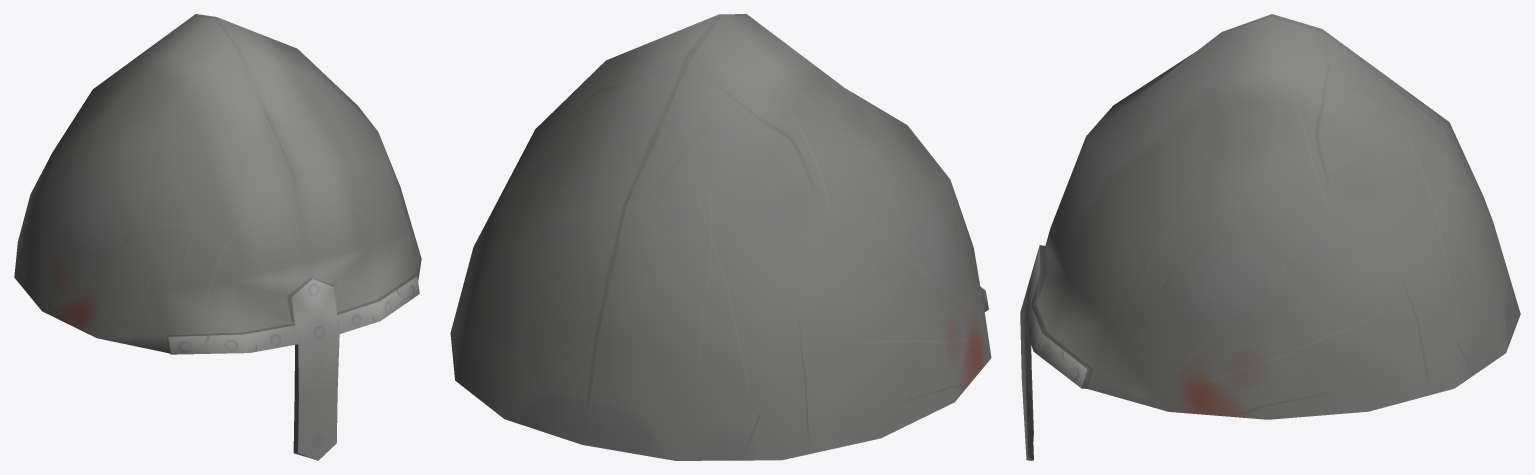
The model's file is Acess_CapaceteMedieval.fbx.
The picture shows the model from 3 angles, left to right: view 1: azimuth 30°, elevation 25°; view 2: azimuth 150°, elevation 25°; view 3: azimuth 270°, elevation 25°; orthographic projection. The views are drawn at different scales.
Parts seen in each view (by area): view 1: Cube.003; view 2: Cube.003; view 3: Cube.003.
Part boxes in pixels (x1,y1,x2,y2): Cube.003: (14, 14, 421, 460); Cube.003: (450, 14, 991, 460); Cube.003: (1020, 14, 1520, 460).
Size of the model in its own units: 48.8 by 49.09 by 49.82.
